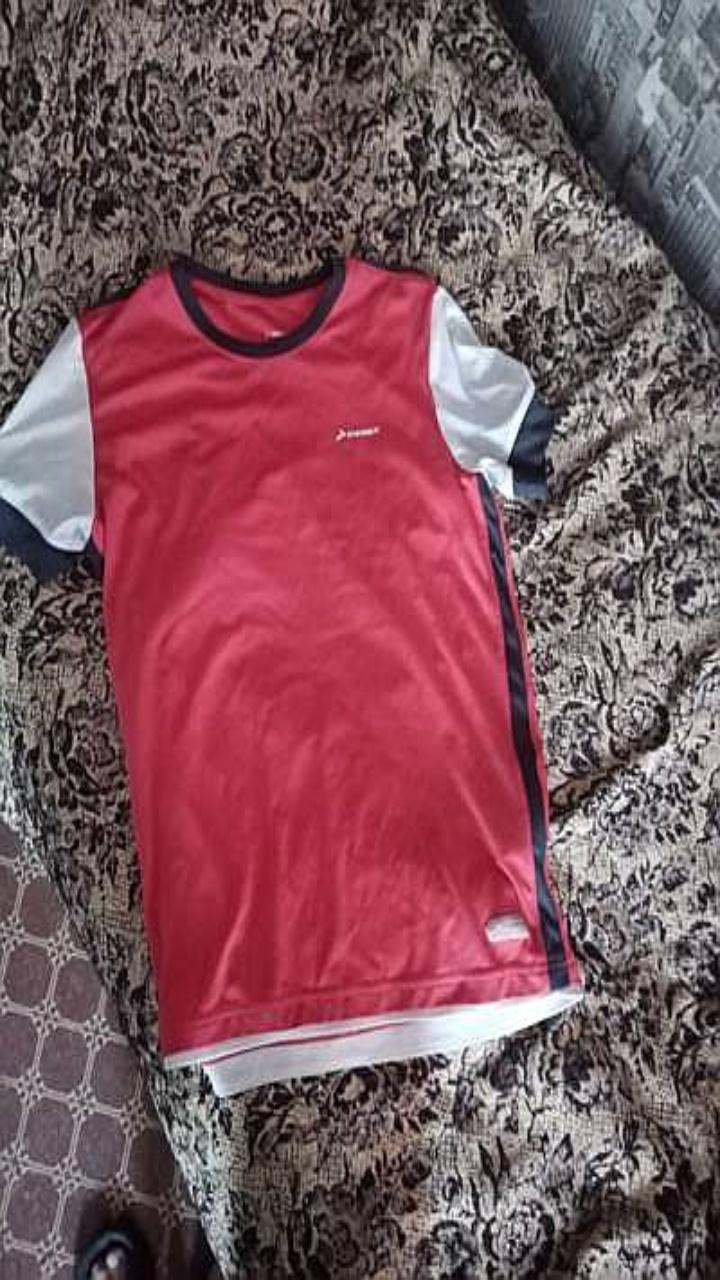T-Shirt: (0, 258, 580, 1093)
